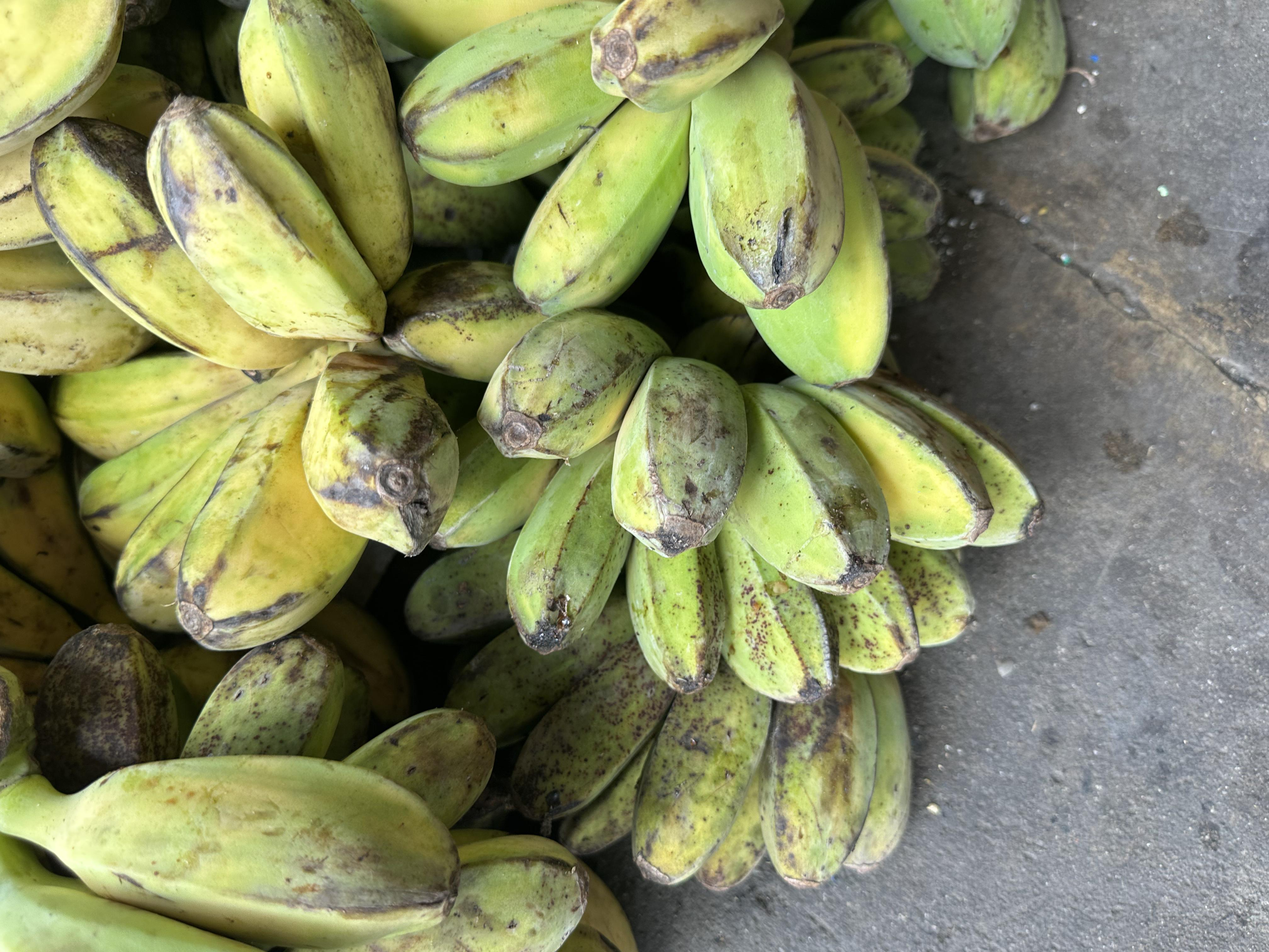underripe: (30, 0, 539, 650), (431, 309, 1040, 703), (356, 0, 890, 385), (446, 582, 911, 889), (34, 625, 496, 829), (0, 0, 179, 375), (790, 37, 941, 305), (360, 828, 634, 952), (407, 536, 515, 636)
